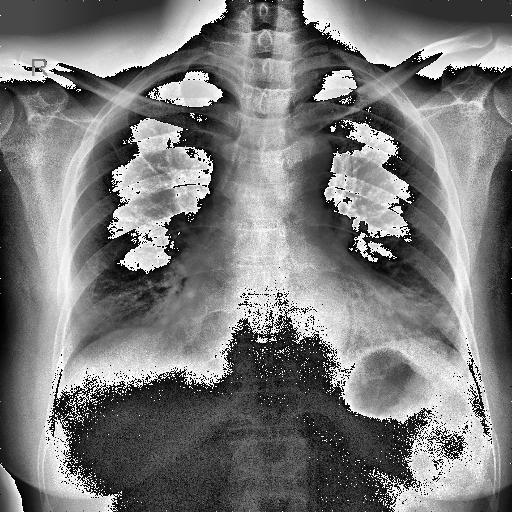0- Aortic enlargement: (263, 124, 335, 206), (268, 133, 336, 201)
11- Pleural thickening: (139, 60, 210, 92), (302, 65, 380, 85)
3- Cardiomegaly: (162, 268, 429, 355), (169, 290, 425, 364), (172, 298, 426, 370)
